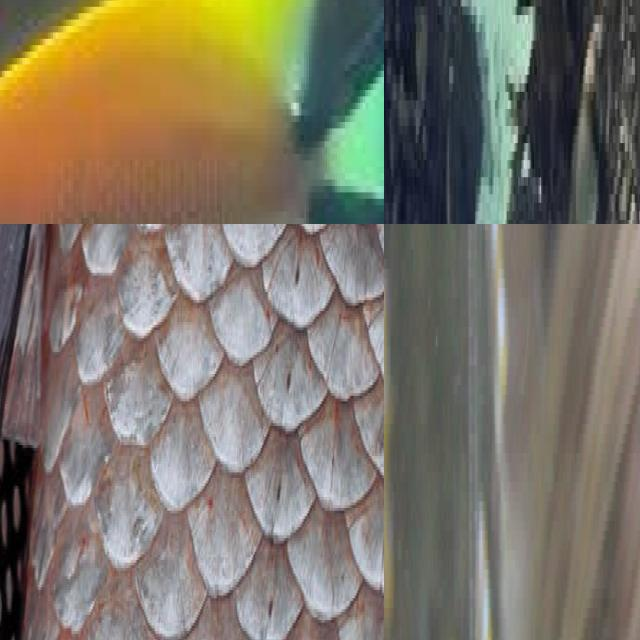fish: (0, 0, 384, 224), (560, 0, 617, 224)
